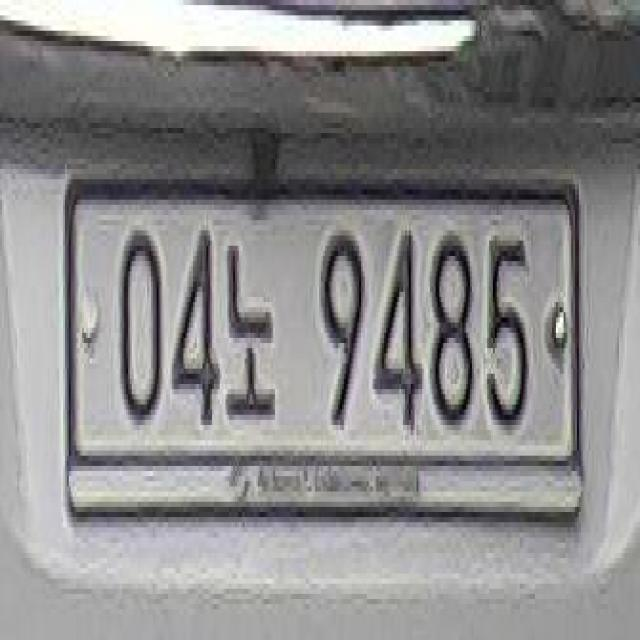illegal_plate: (67, 167, 588, 555)
